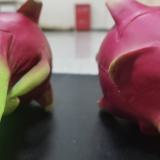pitaya: (97, 2, 160, 132), (1, 1, 54, 119)
